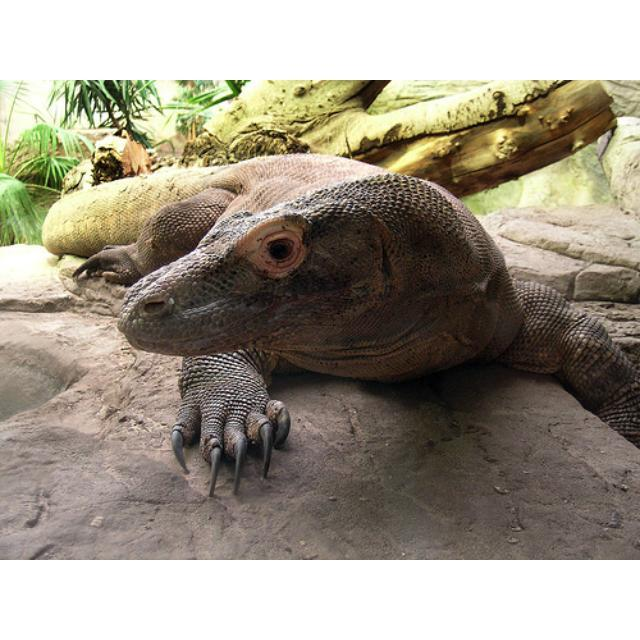KomodoDragon: (41, 152, 638, 497)
